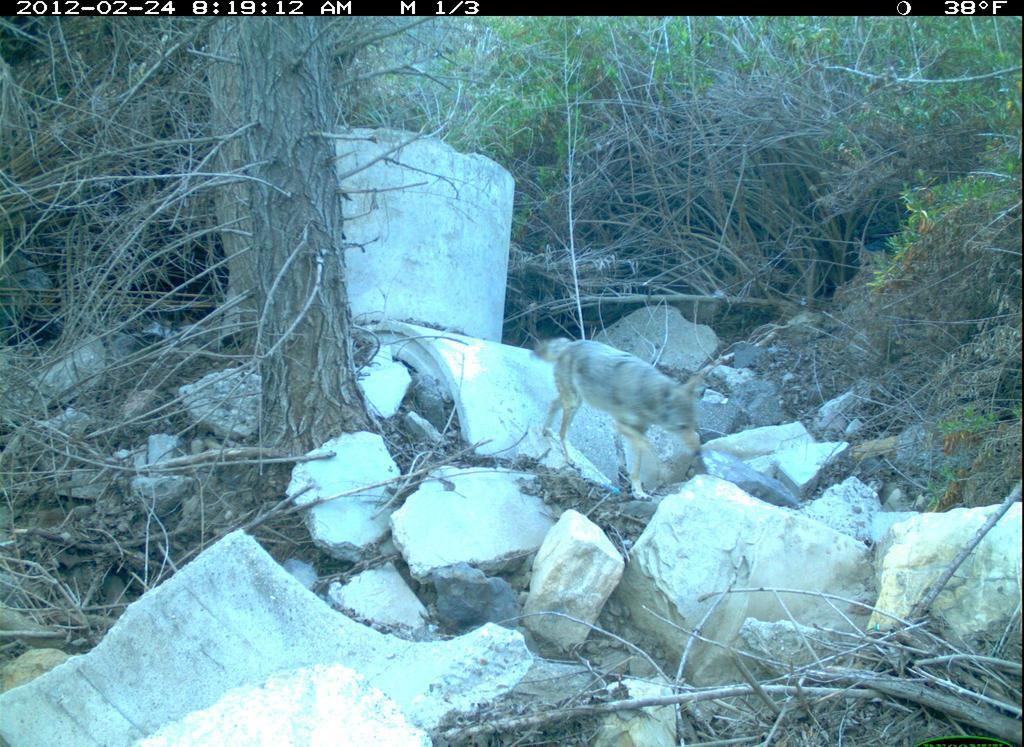coyote: (525, 321, 708, 506)
